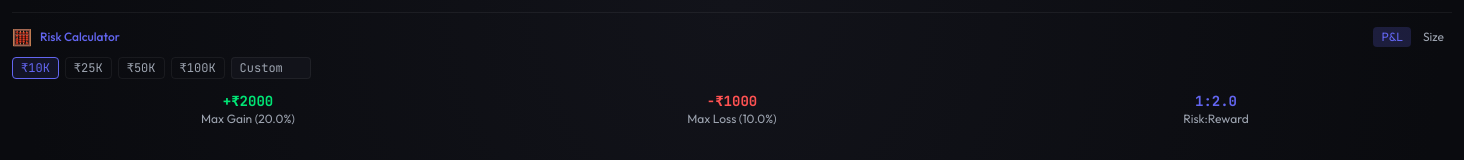
Test: RiskCalculator › updates calculation when a preset amount is clicked
Click the button "₹25K": point(88, 68) [65, 57, 112, 79]
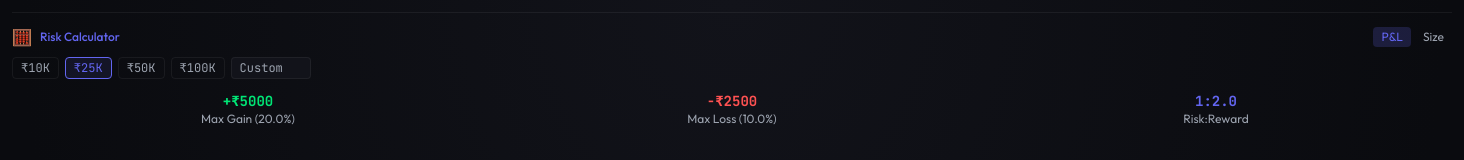
Now the text "+₹5000" is shown, box [223, 92, 273, 110]
